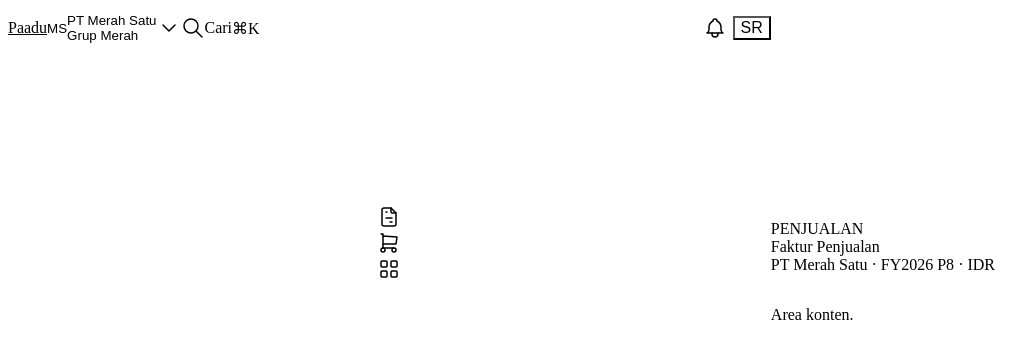
Test: 1440px — menu profil memuat nama, tema, kepadatan, dan keluar
The width and height of the screenshot is (1012, 337).
Click the button with aria-label "Menu pengguna". click: (752, 28)
box: x1=733 y1=16 x2=771 y2=40
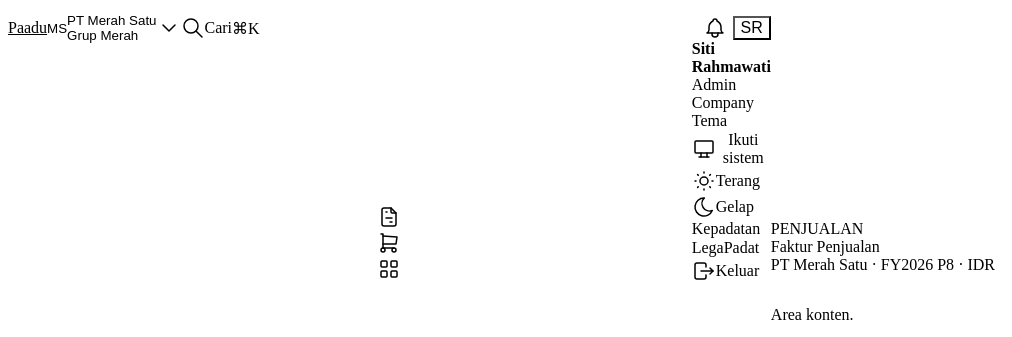
Expected: the text "Siti Rahmawati" is shown, x1=692 y1=40 x2=771 y2=76
Expected: the text "Admin Company" is shown, x1=692 y1=76 x2=754 y2=111
Expected: the element named "Tema" is shown, x1=692 y1=130 x2=771 y2=220
